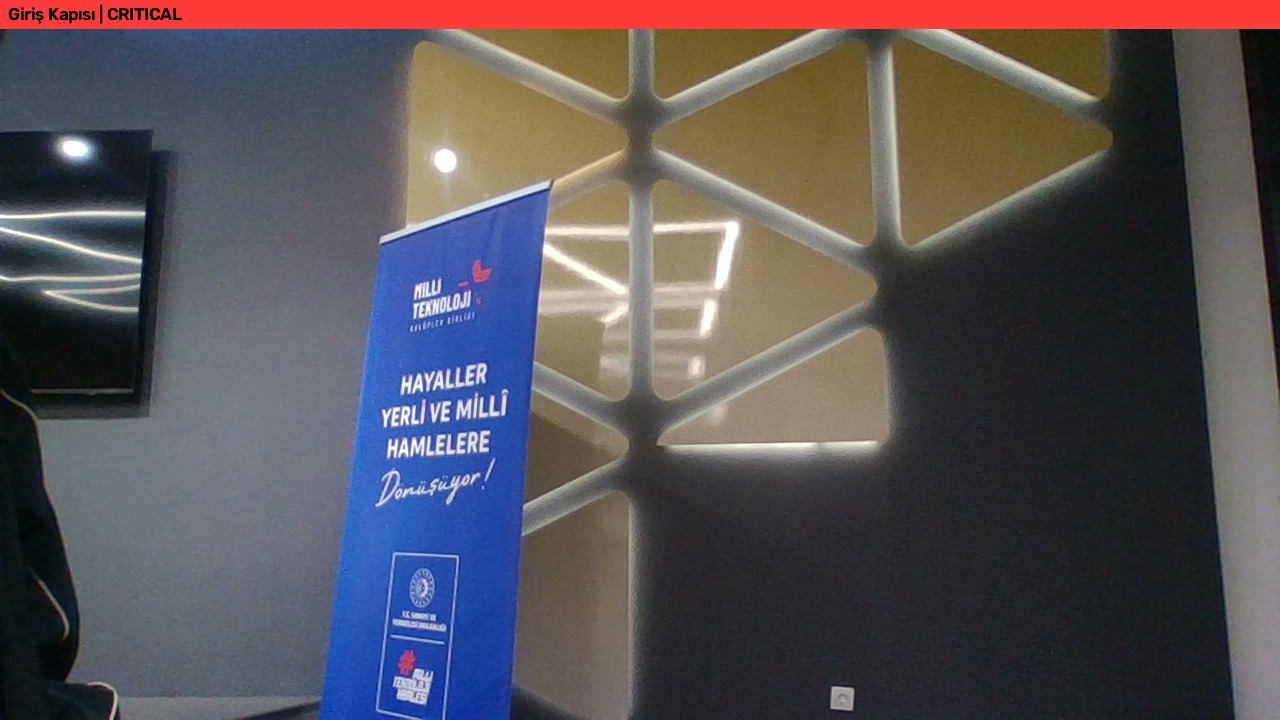cigarette: (306, 36, 561, 720)
